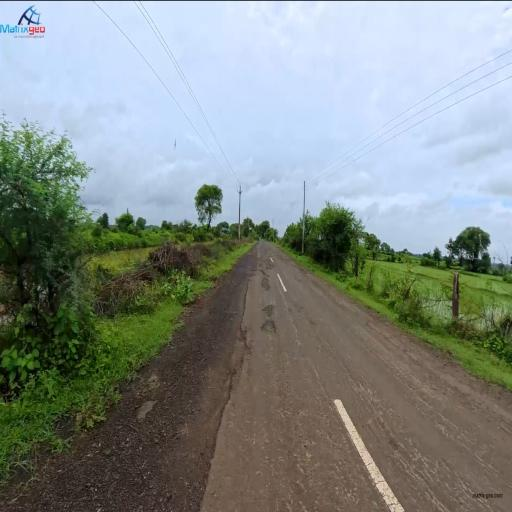longitudinal_crack: (217, 372, 233, 487), (240, 286, 253, 363)
pothole: (262, 299, 286, 343)
